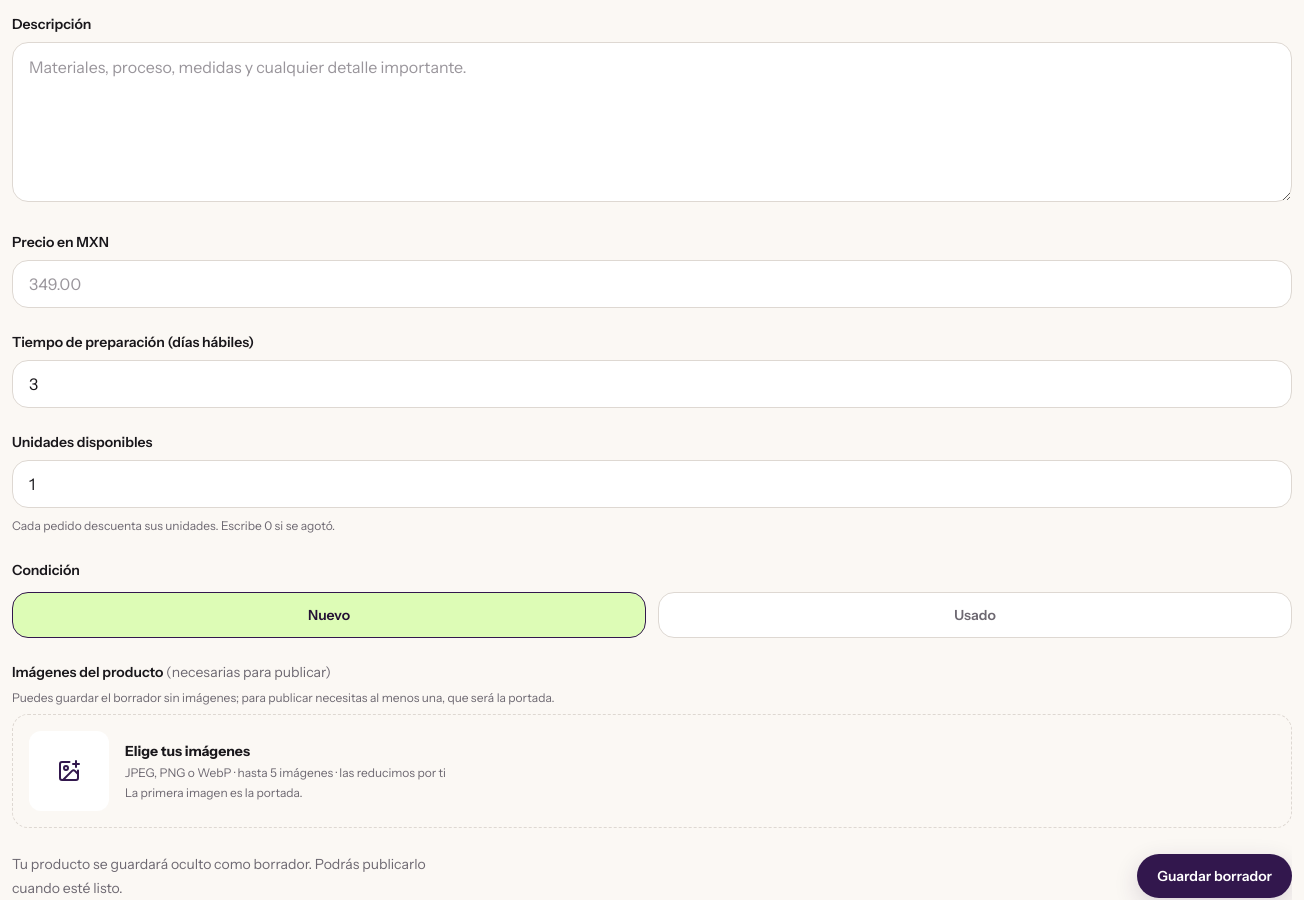
ProductForm › reveals used subcondition only when Usado is selected
(page scrolled)
Check: the field labelled "Estado del producto usado" is not shown
What coordinates should you click on to do the following:
click the radio button labelled "Usado"
I would click on:
 (975, 615)
Its box is 658,592 -> 1292,638.
(page scrolled)
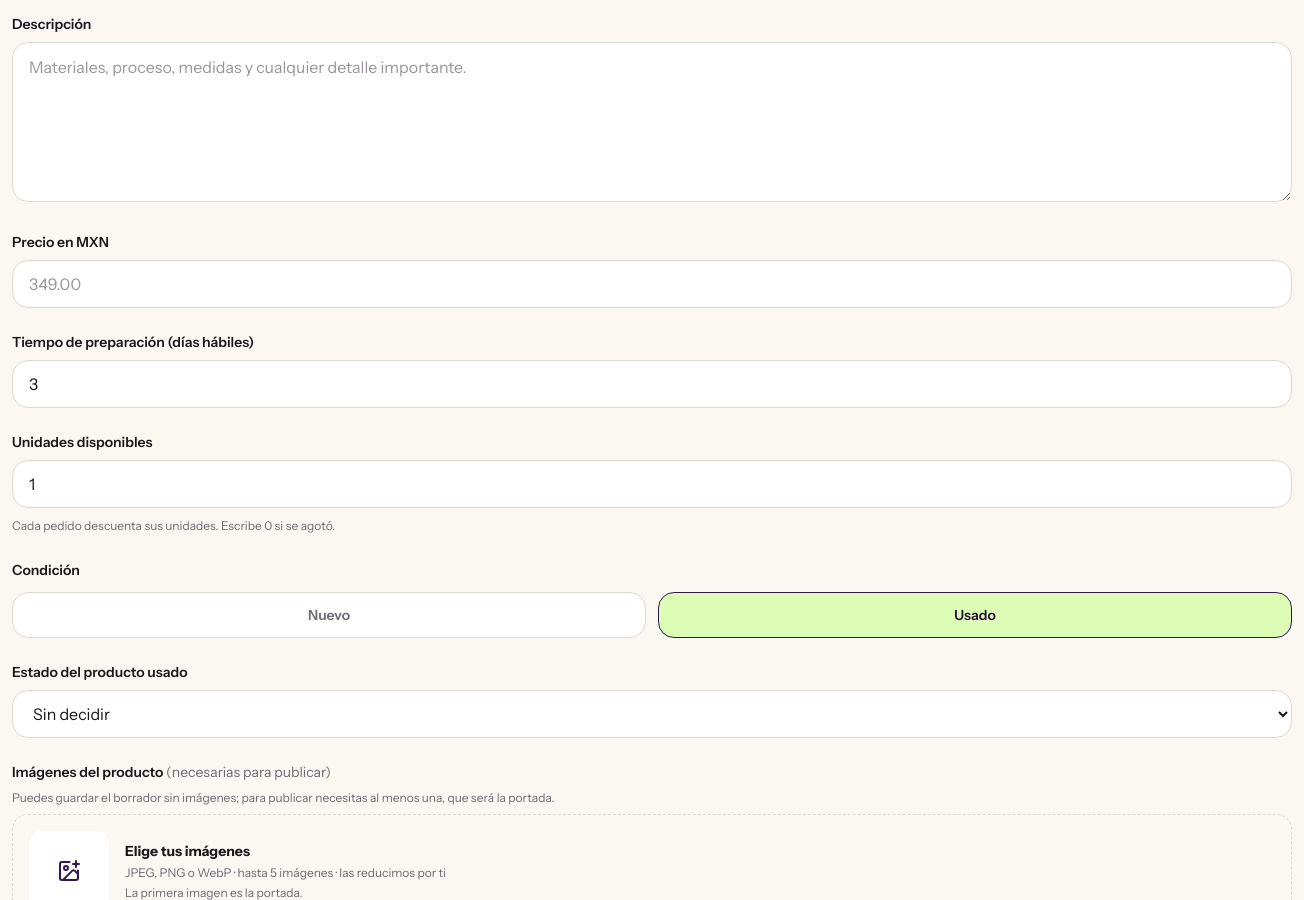
Check: the dropdown labelled "Estado del producto usado" is shown, box 12,690 -> 1292,738
